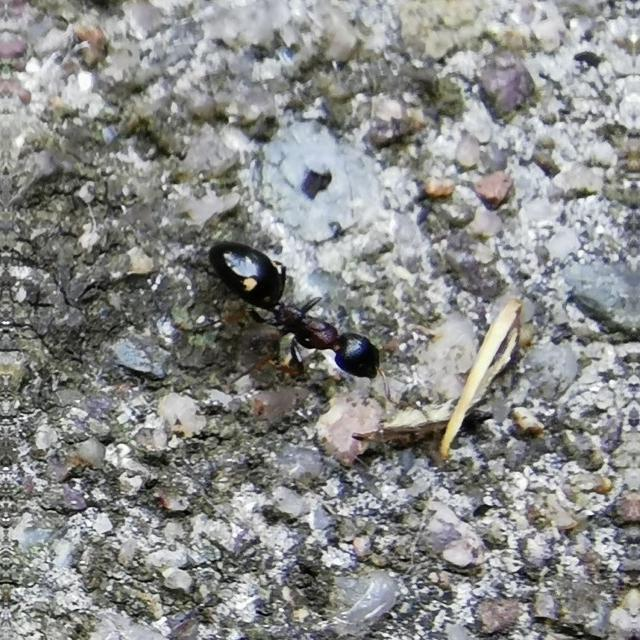Dolichoderus: (183, 215, 409, 407)
